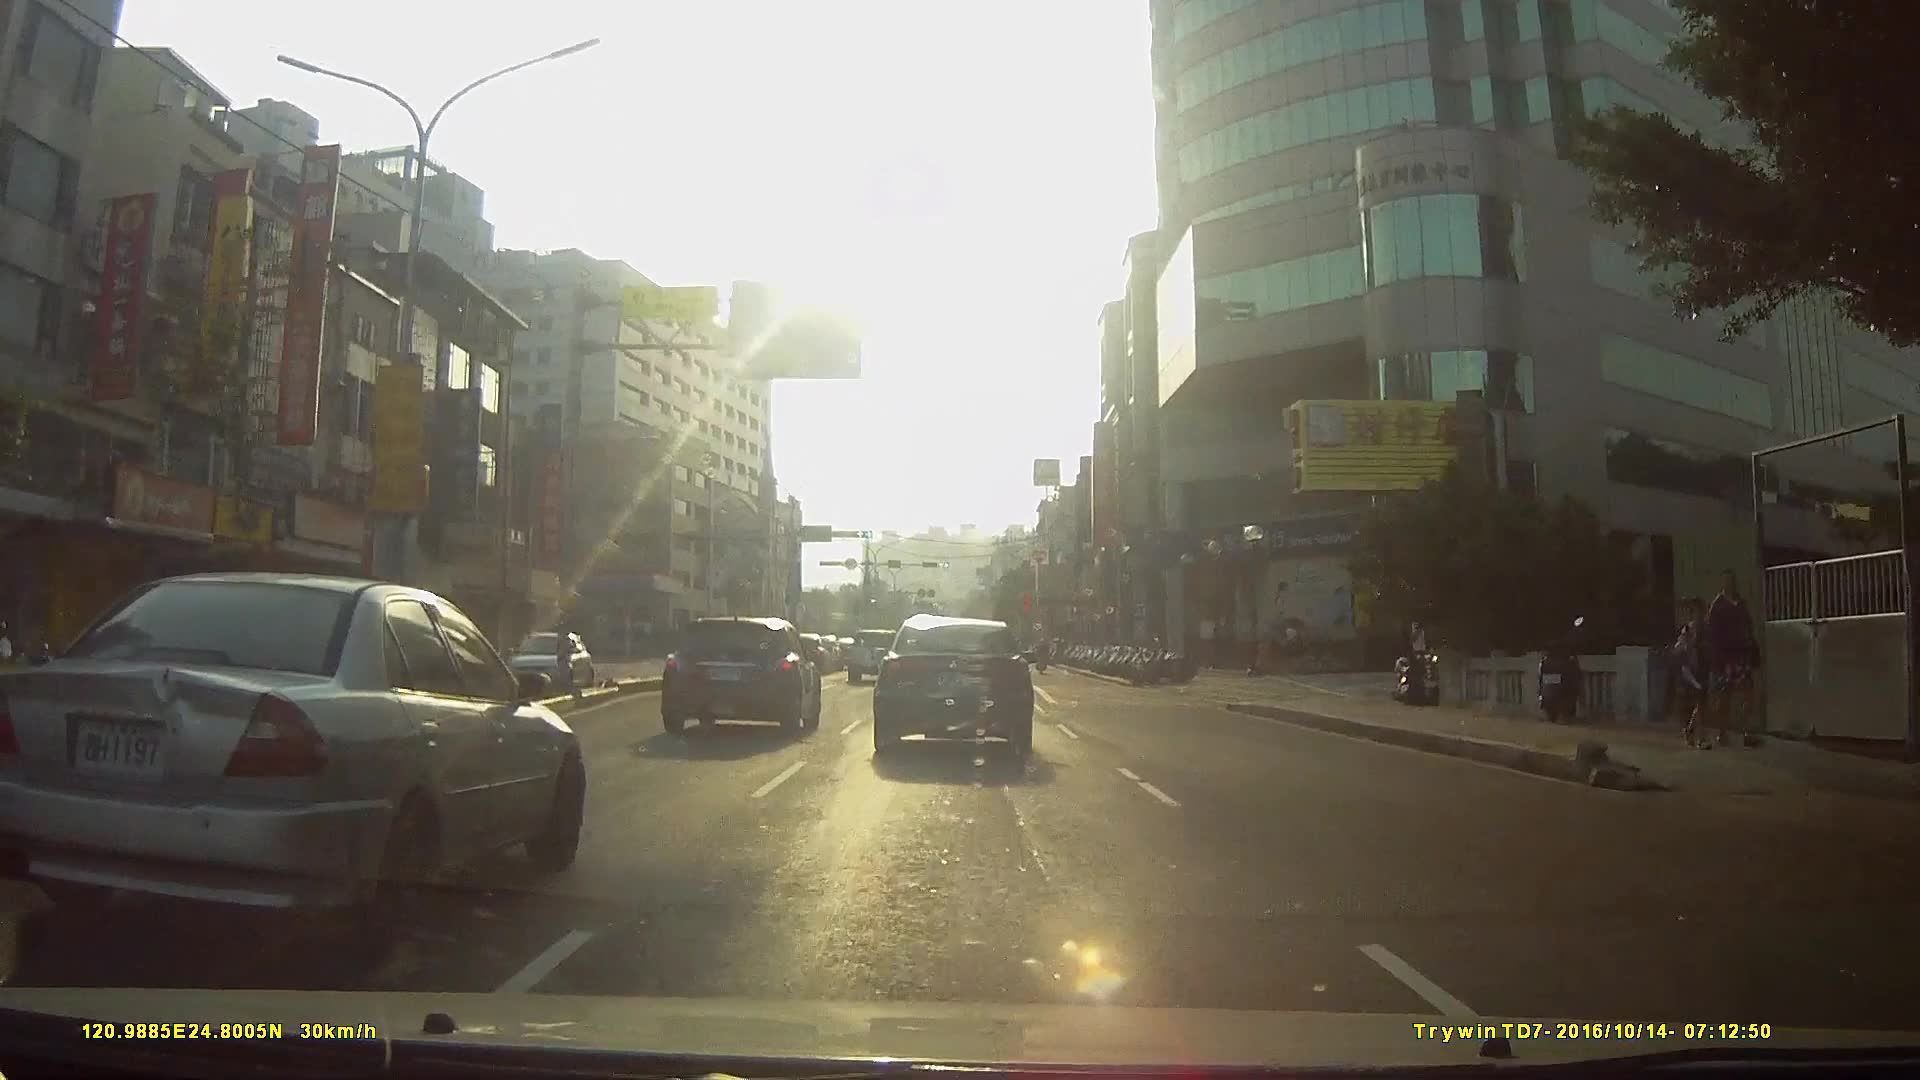pedestrian: (1698, 579, 1764, 754), (1671, 597, 1738, 758)
vehicle: (0, 569, 583, 951), (871, 617, 1034, 764), (657, 613, 820, 738), (496, 634, 596, 704), (844, 629, 904, 686)
